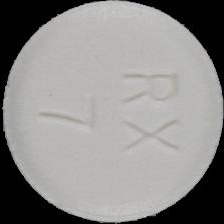0904-5980: (0, 0, 224, 224)
